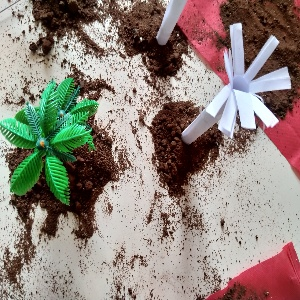plant: (3, 88, 93, 202)
weed: (175, 19, 295, 157)
